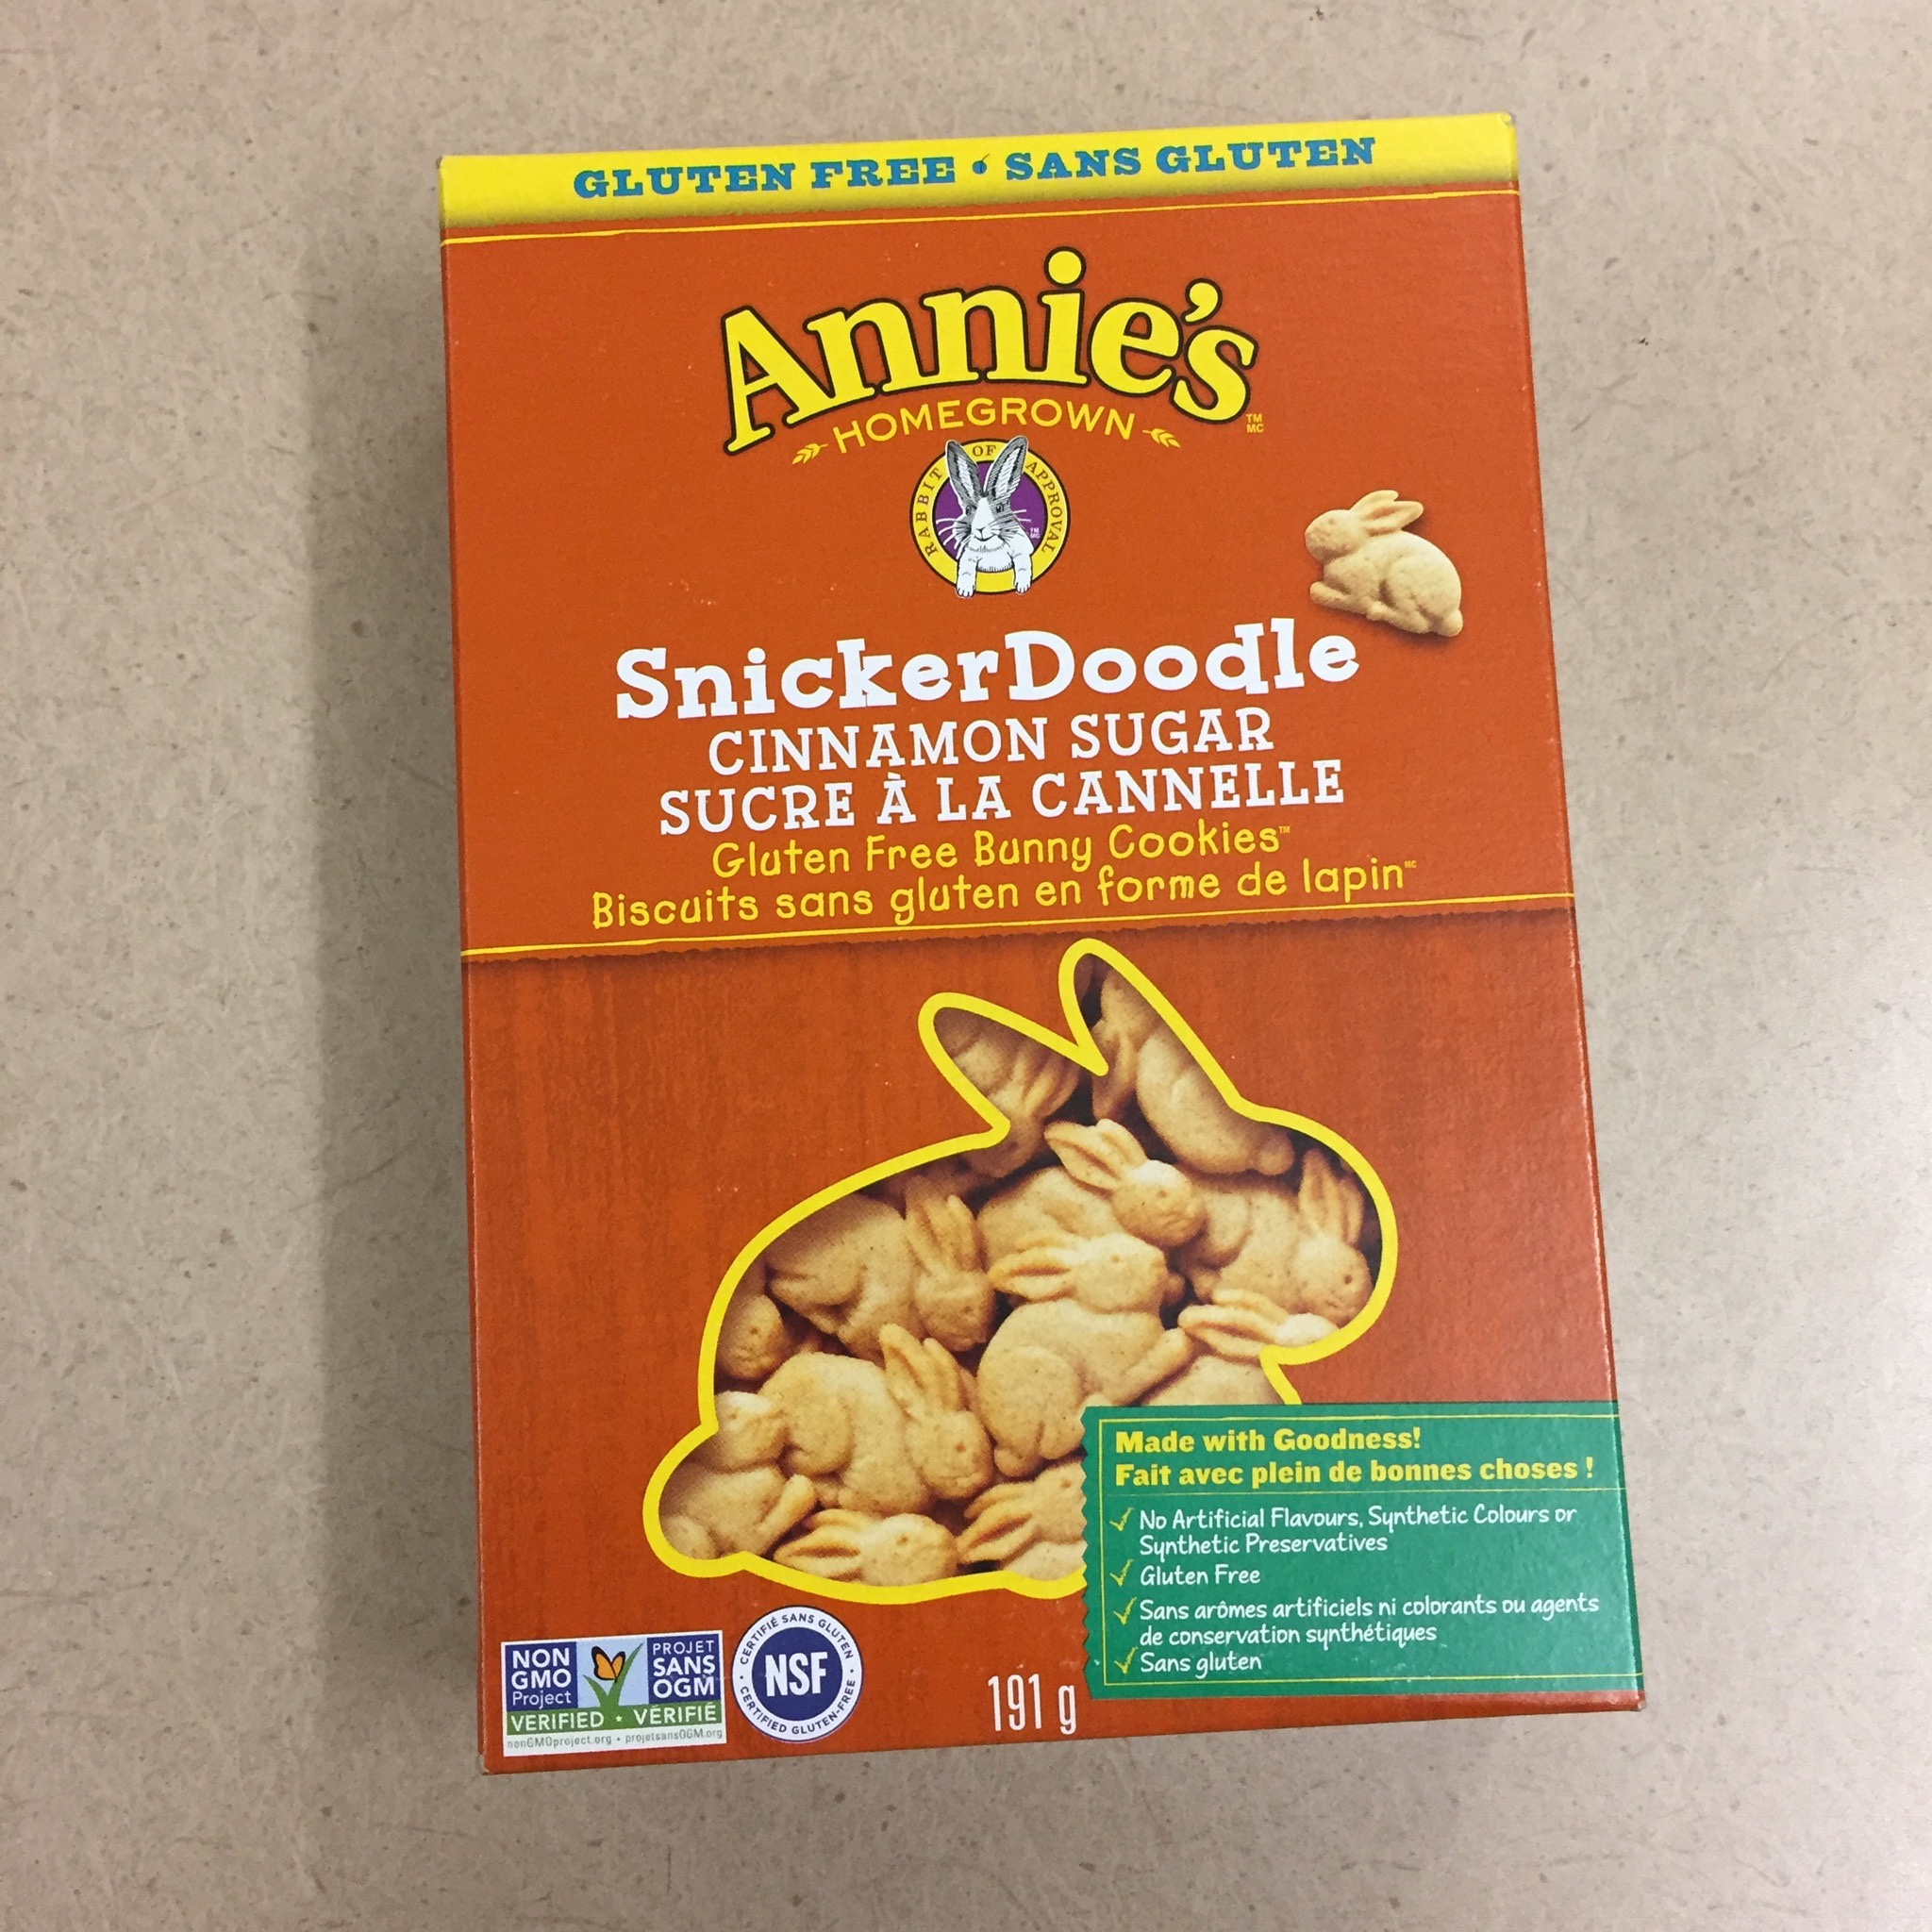annies_snickerdoodle_cinnamon_sugar: (432, 106, 1651, 1782)
